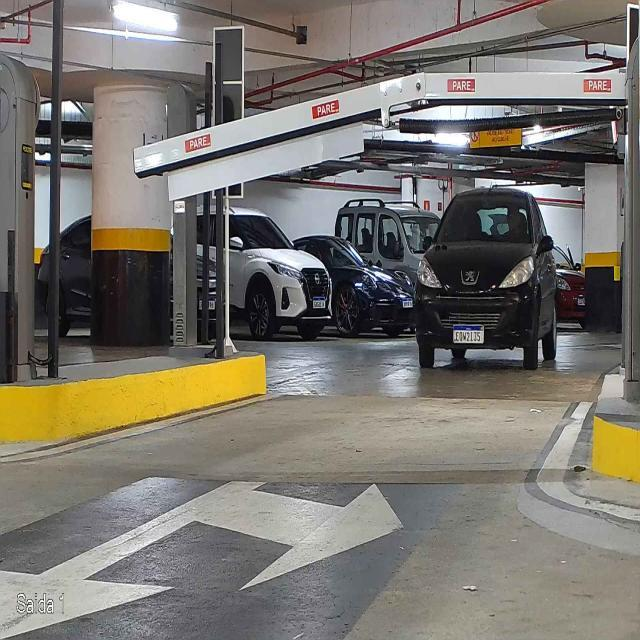mercosul_plate: (452, 324, 485, 344)
